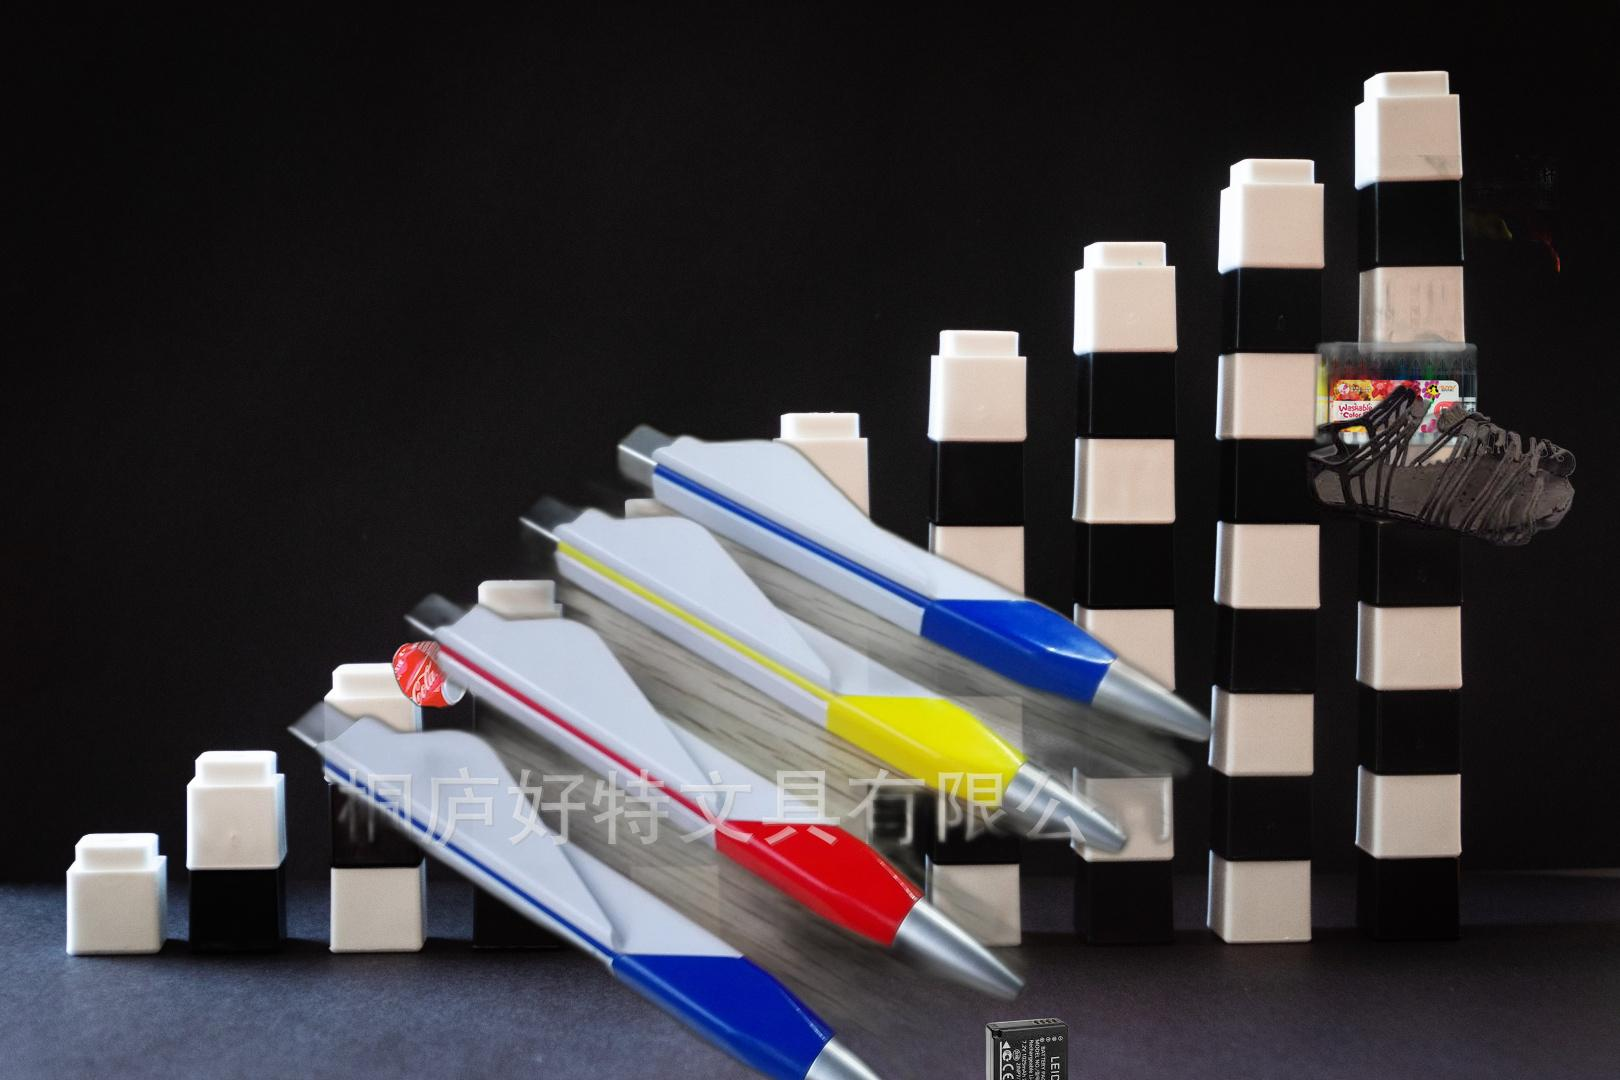battery: (982, 1015, 1072, 1080)
metal-cans: (387, 635, 472, 715)
penholder: (259, 295, 1260, 1080), (1260, 155, 1560, 451)
shoes: (1284, 385, 1584, 546)
